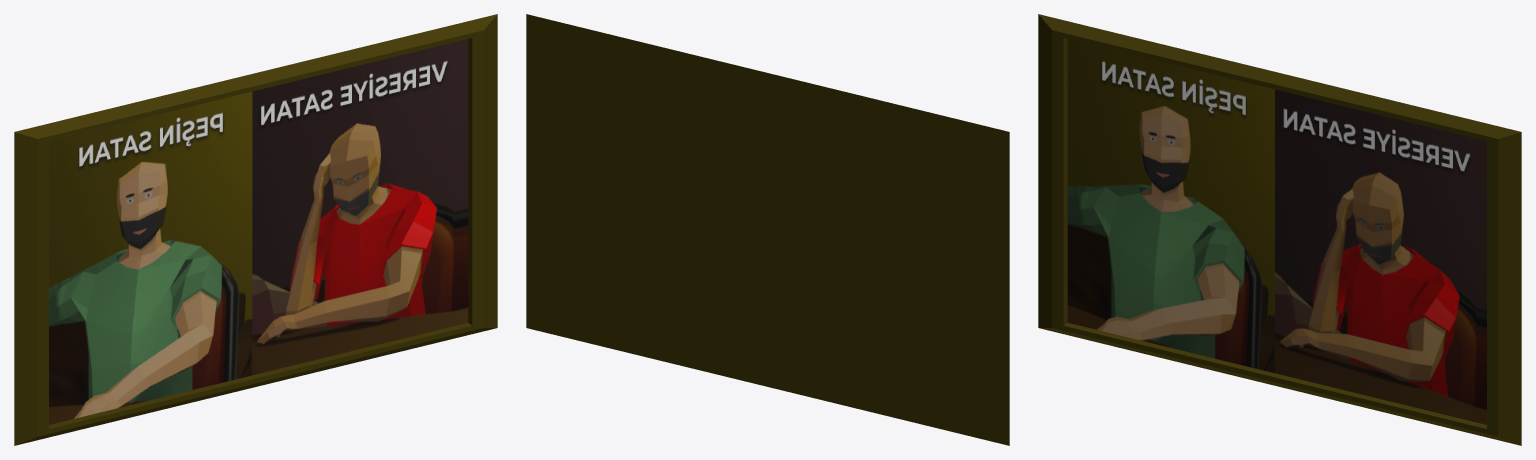
File: pesinSayanVeresiyeSatan.fbx
3 renders of one model, left to right at view 1: azimuth 30°, elevation 25°; view 2: azimuth 150°, elevation 25°; view 3: azimuth 330°, elevation 25°, orthographic.
Parts seen in each view (by area): view 1: PesinSatanVeresiyeSatan; view 2: PesinSatanVeresiyeSatan; view 3: PesinSatanVeresiyeSatan.
Boxes of the visible parts, <box> form: PesinSatanVeresiyeSatan: <box>14,14,497,445</box>; PesinSatanVeresiyeSatan: <box>526,14,1009,445</box>; PesinSatanVeresiyeSatan: <box>1038,14,1521,445</box>.
Bounding box in the file's own units: 580 × 360 × 9.9.
2 materials, 1 textured.
